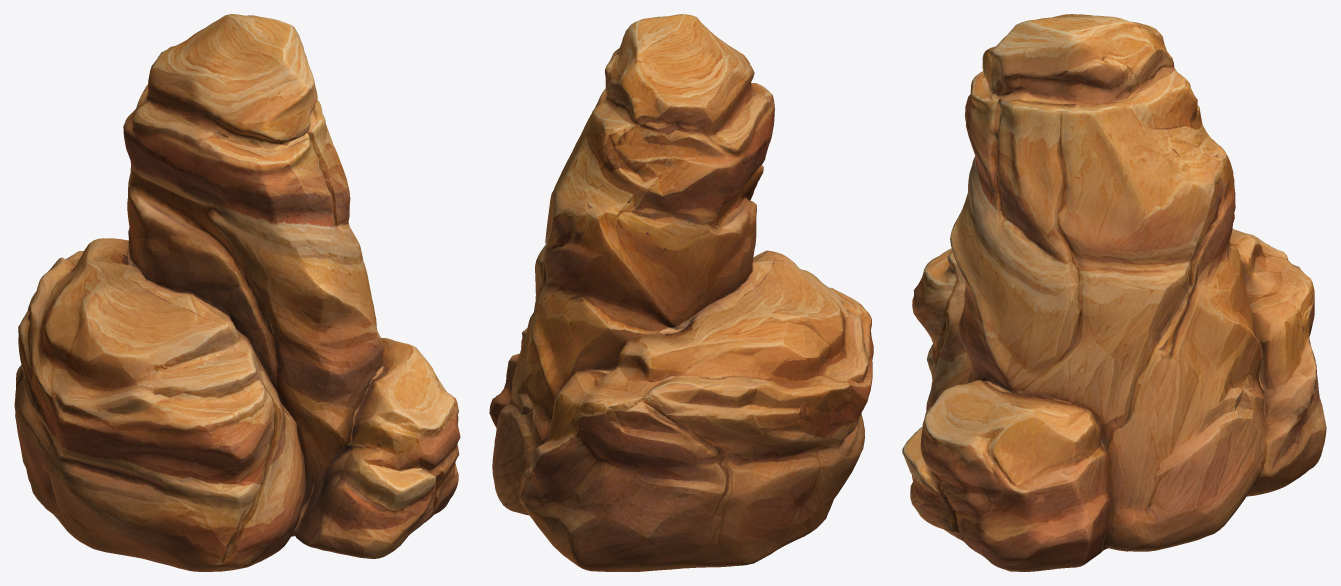
Rendered from DESERT_P03_SANDSTONE_ROCKS.glb.
The picture shows the model from 3 angles, left to right: view 1: azimuth 30°, elevation 25°; view 2: azimuth 150°, elevation 25°; view 3: azimuth 270°, elevation 25°; orthographic projection. The views are drawn at different scales.
Visible parts, largest first — view 1: texture_mapping; view 2: texture_mapping; view 3: texture_mapping.
Boxes of the visible parts, <box> form: texture_mapping: <box>14,14,460,571</box>; texture_mapping: <box>489,14,873,571</box>; texture_mapping: <box>902,14,1326,571</box>.
Bounding box in the file's own units: 0.8252 × 0.9996 × 0.7956.
1 material, 1 textured.
